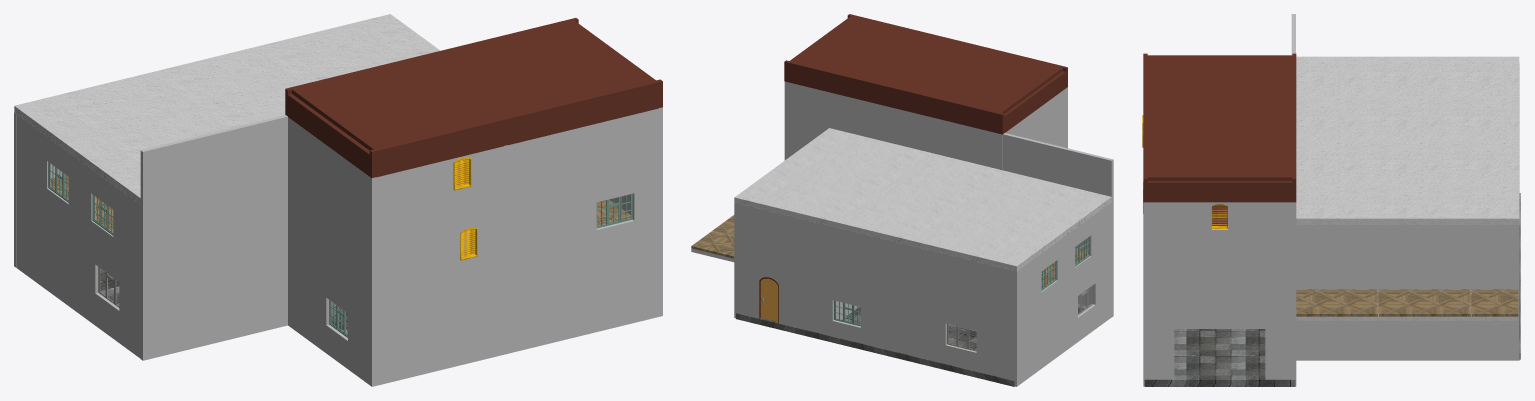
Rendered from Cenario_Casa.fbx.
The picture shows the model from 3 angles, left to right: view 1: azimuth 30°, elevation 25°; view 2: azimuth 150°, elevation 25°; view 3: azimuth 270°, elevation 25°; orthographic projection. The views are drawn at different scales.
Visible parts, largest first — view 1: Parede.007, Telhado, Parede.002, Teto, Parede.009, Parede.005, Parede.006, Cube.001, Parede.008, Cube, Janela_verde.003, Janela_Madeira.002 (+1 smaller); view 2: Parede, Teto, Telhado, Parede.002, Parede.005, Cube, Parede.009, Cube.001, Porta; view 3: Teto, Parede.001, Telhado, Parede.006, Cube.001, Cube, Parede, Janela_Madeira.001.
Part boxes in pixels (bbox=[...]): Parede.007: bbox=[376, 108, 658, 385]; Telhado: bbox=[285, 18, 662, 177]; Parede.002: bbox=[140, 115, 287, 360]; Teto: bbox=[14, 14, 440, 204]; Parede.009: bbox=[288, 117, 376, 386]; Parede.005: bbox=[16, 115, 140, 358]; Parede.006: bbox=[609, 107, 662, 316]; Cube.001: bbox=[51, 175, 630, 255]; Parede.008: bbox=[464, 145, 507, 354]; Cube: bbox=[100, 268, 347, 334]; Janela_verde.003: bbox=[596, 193, 632, 228]; Janela_Madeira.002: bbox=[453, 157, 471, 190]; Parede: bbox=[734, 202, 1018, 386]; Teto: bbox=[734, 128, 1111, 271]; Telhado: bbox=[784, 14, 1067, 134]; Parede.002: bbox=[787, 82, 1113, 317]; Parede.005: bbox=[1018, 202, 1111, 384]; Cube: bbox=[736, 303, 1086, 386]; Parede.009: bbox=[999, 87, 1067, 170]; Cube.001: bbox=[691, 215, 1087, 288]; Porta: bbox=[761, 278, 778, 321]; Teto: bbox=[1296, 56, 1519, 224]; Parede.001: bbox=[1296, 225, 1515, 360]; Telhado: bbox=[1143, 53, 1296, 202]; Parede.006: bbox=[1143, 202, 1296, 386]; Cube.001: bbox=[1296, 289, 1518, 320]; Cube: bbox=[1144, 193, 1520, 386]; Parede: bbox=[1515, 63, 1519, 360]; Janela_Madeira.001: bbox=[1211, 204, 1227, 228].
Size of the model in its own units: 2083 by 1071 by 1768.
